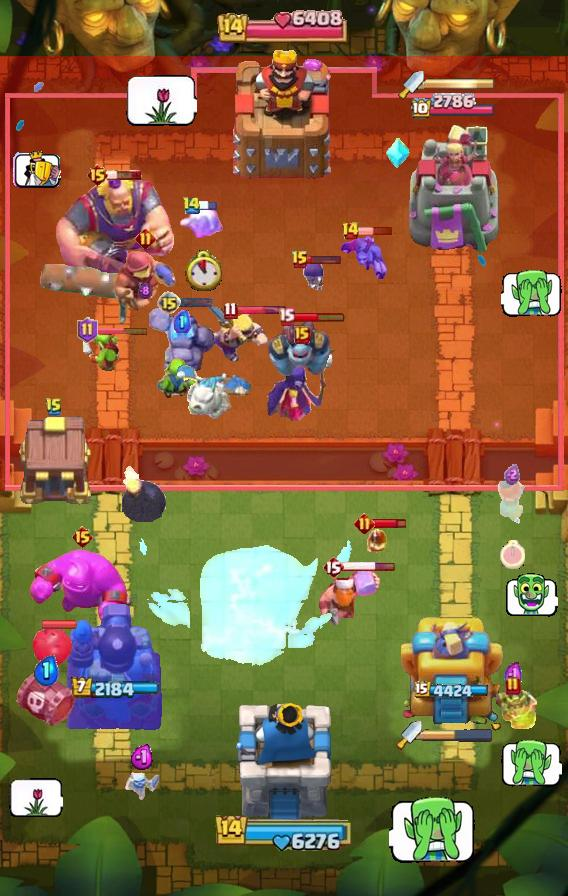bar: (293, 311, 346, 323), (342, 561, 396, 572), (235, 305, 287, 316), (95, 326, 149, 335), (372, 517, 407, 530), (106, 169, 142, 181), (42, 619, 78, 630), (178, 297, 214, 308), (307, 254, 342, 265), (358, 226, 393, 236), (199, 199, 218, 211)
bar-level: (157, 291, 181, 315), (71, 525, 94, 549), (86, 163, 109, 187), (77, 317, 98, 343), (322, 555, 344, 579), (354, 513, 375, 534), (135, 228, 156, 249), (341, 221, 360, 241), (182, 196, 201, 215), (45, 397, 63, 417), (291, 250, 309, 270), (278, 307, 295, 326), (505, 676, 521, 696), (294, 326, 310, 344), (223, 301, 238, 320)
barbarian-evolution: (209, 307, 268, 364)
bomb: (121, 463, 167, 522)
cannoneer-tower: (64, 601, 164, 731)
clock: (185, 250, 222, 291), (500, 540, 525, 569)
dagger-duchess-tower: (406, 122, 500, 256), (401, 611, 505, 731)
dagger-duchess-tower-bar: (422, 728, 494, 742), (424, 77, 496, 91)
elixir: (33, 655, 59, 686), (130, 744, 155, 771), (504, 661, 523, 690), (174, 310, 191, 333), (504, 464, 520, 485), (138, 282, 152, 300)
emote: (389, 794, 476, 864), (125, 74, 197, 126), (501, 738, 562, 787), (501, 268, 562, 317), (505, 573, 558, 617), (9, 778, 63, 817), (12, 151, 61, 189)
fire-spirit: (367, 527, 389, 553)
goblin: (155, 352, 199, 407), (81, 329, 125, 373)
golemite: (149, 305, 215, 377)
ice-spirit-evolution: (178, 206, 228, 244)
ice-spirit-evolution-symbol: (385, 137, 411, 169)
king-tower: (229, 43, 339, 181), (235, 703, 333, 826)
king-tower-bar: (214, 812, 354, 852), (217, 9, 351, 43)
little-prince: (489, 689, 537, 733)
lumberjack: (317, 565, 381, 629)
mega-minion: (266, 318, 334, 380)
minion: (338, 234, 390, 280)
skeleton: (125, 769, 159, 801)
skeleton-evolution: (300, 259, 326, 295)
the-log: (39, 264, 139, 300)
tower-bar: (410, 93, 496, 121), (70, 677, 159, 700), (415, 681, 492, 701)
valkyrie: (493, 475, 531, 527)
witch: (264, 344, 340, 424)
